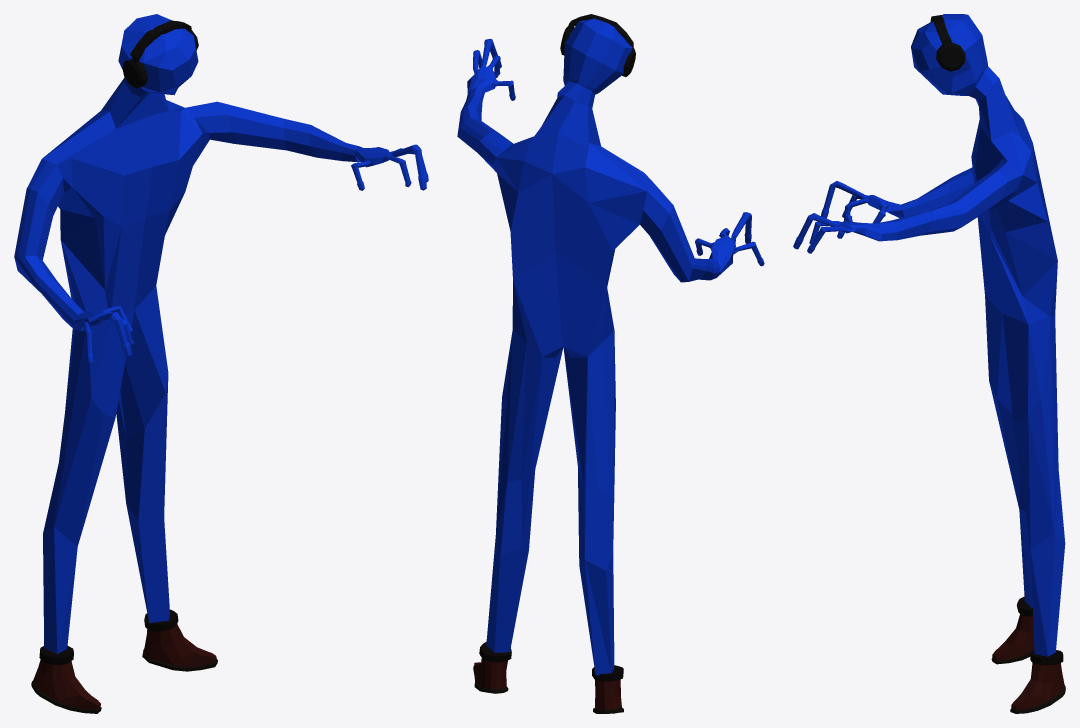
Rendered from dj_anim_p2_f1.obj.
3 renders of one model, left to right at view 1: azimuth 30°, elevation 25°; view 2: azimuth 150°, elevation 25°; view 3: azimuth 270°, elevation 25°, orthographic. The views are drawn at different scales.
Parts seen in each view (by area): view 1: dj_alien, Shoe, Headphones; view 2: dj_alien, Shoe, Headphones; view 3: dj_alien, Shoe, Headphones.
Part boxes in pixels (x1,y1,x2,y2): dj_alien: (14,14,428,654); Shoe: (31,609,217,713); Headphones: (122,20,198,88); dj_alien: (457,18,764,675); Shoe: (473,641,623,713); Headphones: (560,14,635,76); dj_alien: (793,14,1065,656); Shoe: (991,596,1065,713); Headphones: (930,15,965,71).
Bounding box in the file's own units: 1.05 × 2.19 × 0.8157.
